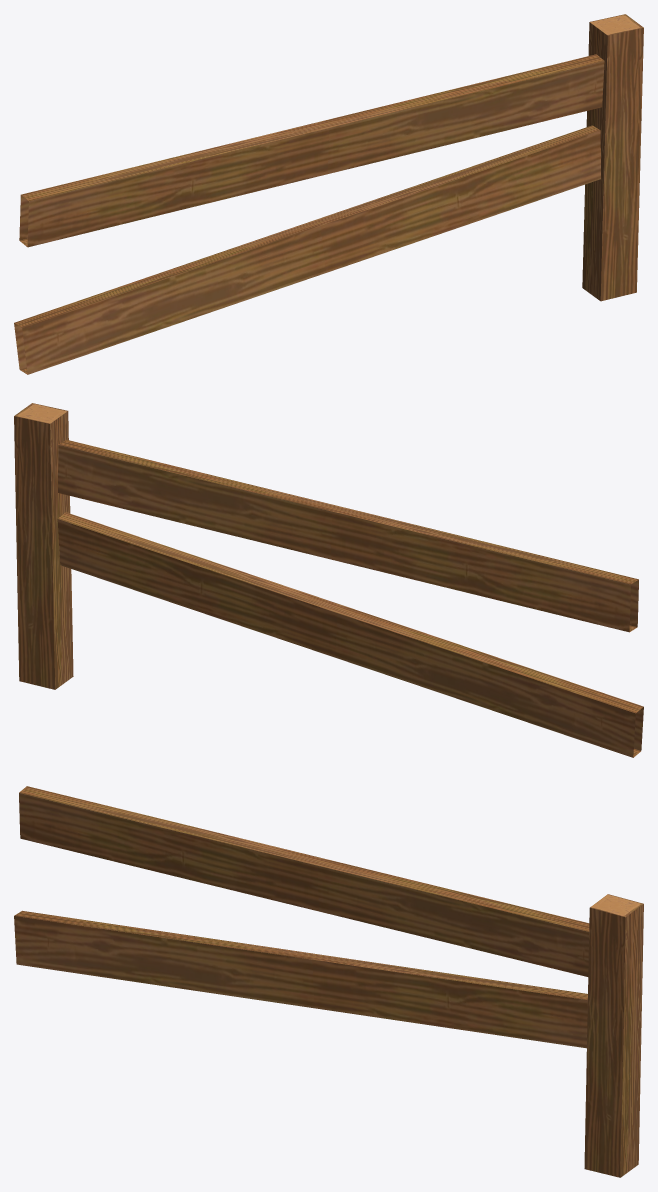
The model's file is Prop_WoodenFence_Extension1.glb.
3 views of the same model, one above another, from view 1: azimuth 30°, elevation 25°; view 2: azimuth 150°, elevation 25°; view 3: azimuth 330°, elevation 25° (orthographic).
Parts seen in each view (by area): view 1: Prop_WoodenFence_Extension1; view 2: Prop_WoodenFence_Extension1; view 3: Prop_WoodenFence_Extension1.
Boxes of the visible parts, box(x1,y1,x2,y2) form: Prop_WoodenFence_Extension1: box(14, 14, 643, 374); Prop_WoodenFence_Extension1: box(14, 403, 643, 757); Prop_WoodenFence_Extension1: box(14, 786, 643, 1177).
Size of the model in its own units: 2.05 by 0.8381 by 0.1103.
Materials: 1 (1 with a texture image).
